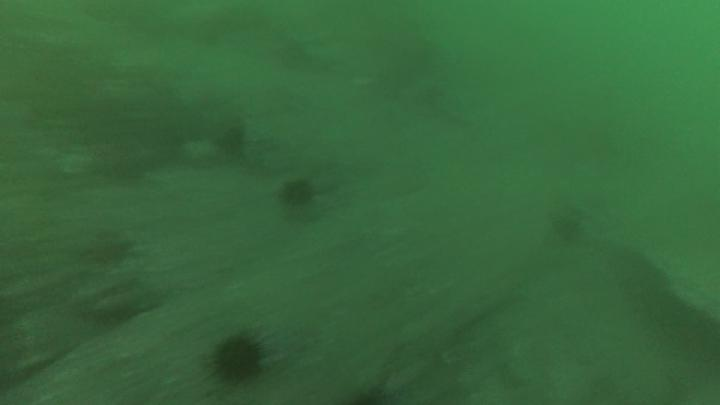echinus: (217, 340, 258, 379), (283, 183, 310, 205)
